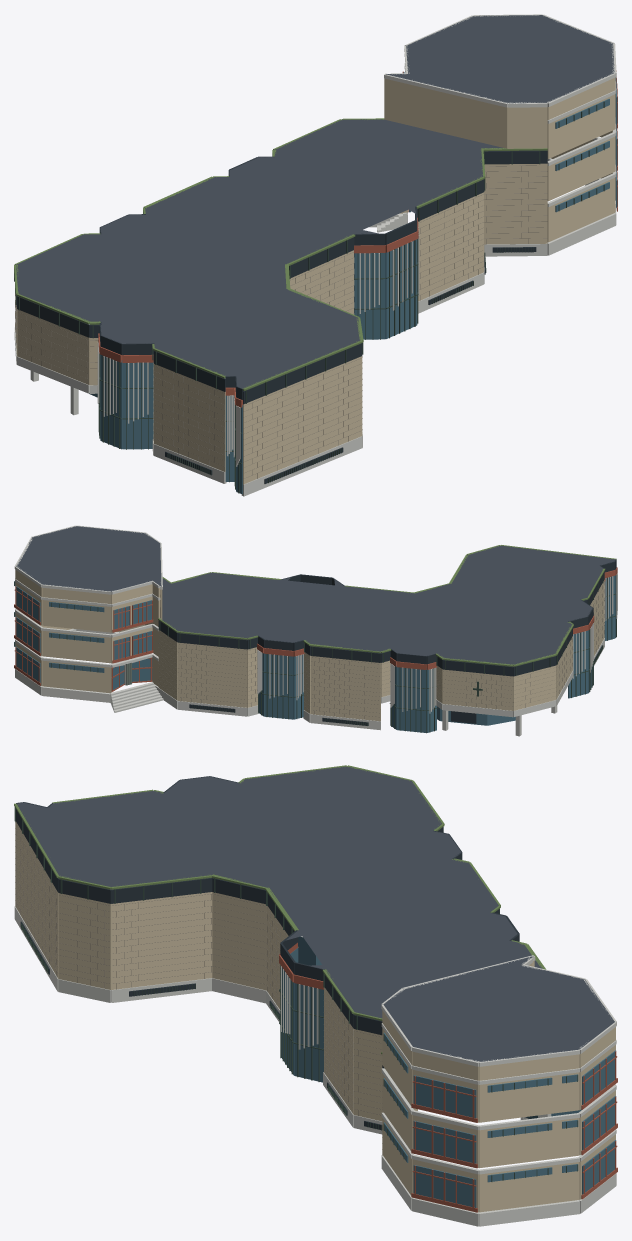
File: afrikahuis.glb
3 views of the same model, one above another, from view 1: azimuth 30°, elevation 25°; view 2: azimuth 150°, elevation 25°; view 3: azimuth 270°, elevation 25° (orthographic). The views are drawn at different scales.
Visible parts, largest first — view 1: afrikahuis; view 2: afrikahuis; view 3: afrikahuis.
Boxes of the visible parts, x1,y1,x2,y2 form: afrikahuis: (14,14,617,496); afrikahuis: (14,525,617,736); afrikahuis: (14,765,617,1226).
Size of the model in its own units: 59.42 by 13.09 by 43.74.
